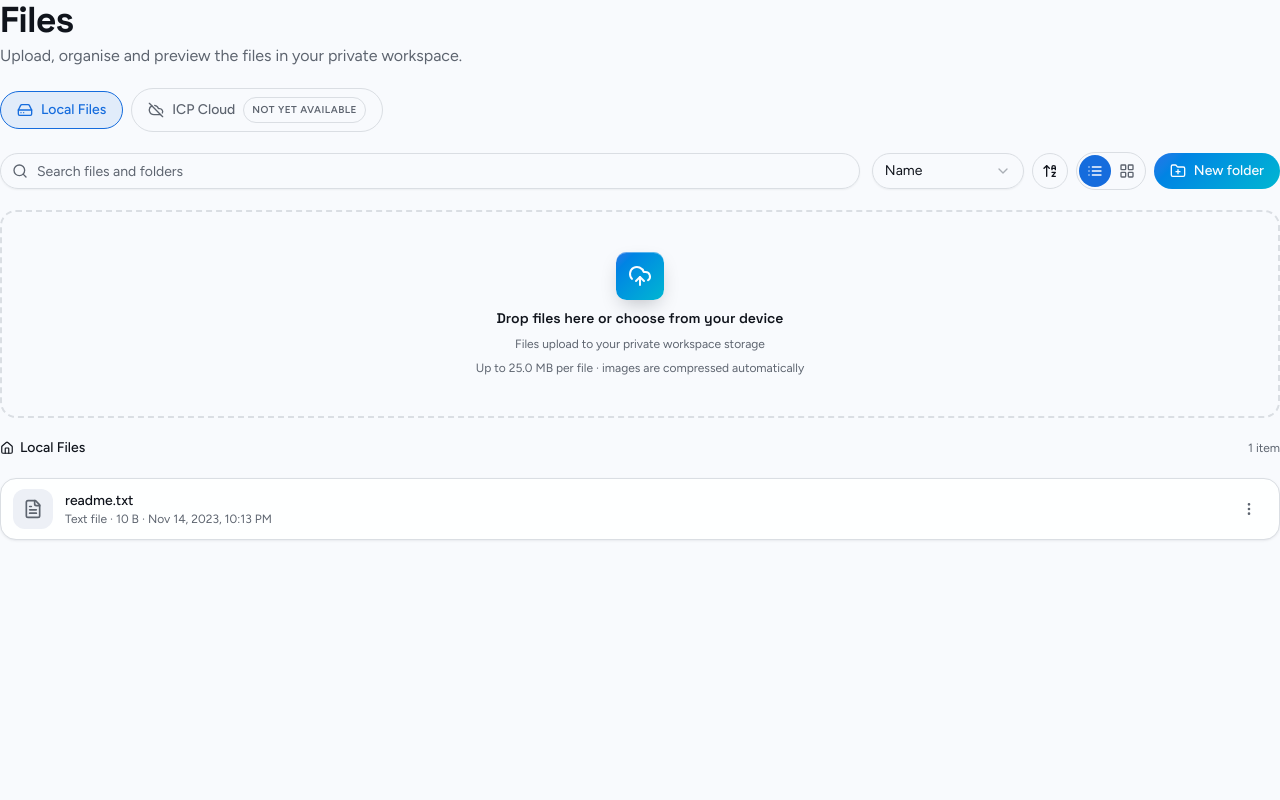
Test: Files listing baseline › lists a stored file and opens its preview from the row
Expected: the text "readme.txt" is shown, [65,492,133,509]
What coordinates should you click on to do the following:
click the button with test id "files.preview_button.1"
I would click on:
 (99, 500)
Its box is [65,491,1219,527].
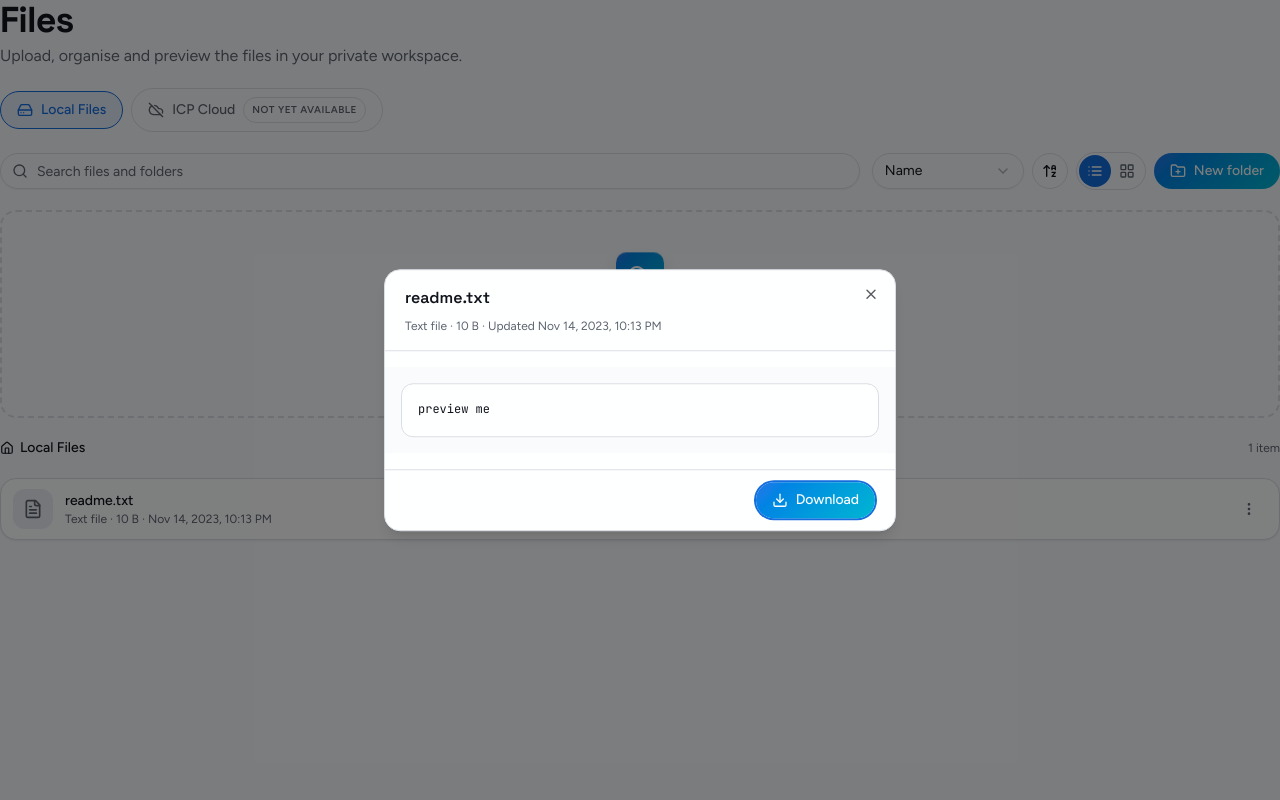
Expected: the text "preview me" is shown, [401,383,879,437]
